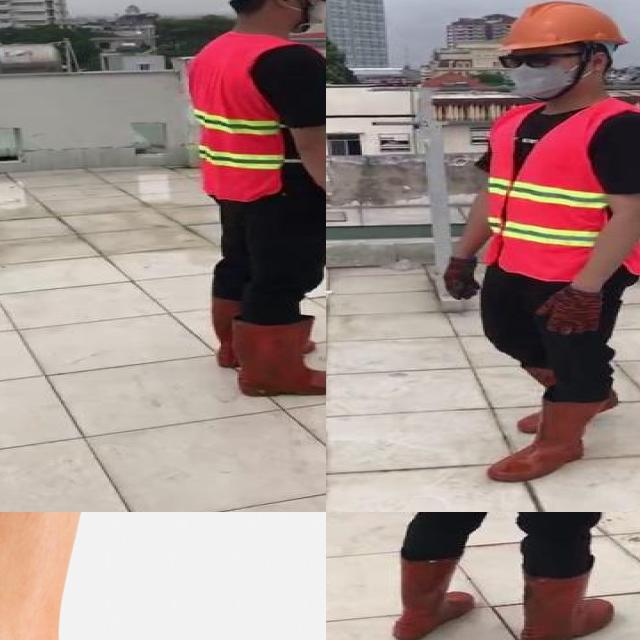boots: (196, 289, 326, 368), (486, 399, 598, 482), (231, 315, 326, 395), (392, 553, 475, 640), (518, 568, 614, 640)
face_mask: (496, 50, 576, 100), (284, 0, 326, 30)
glasses: (493, 51, 579, 70)
hand_glove: (534, 288, 602, 336), (442, 256, 481, 300)
head_helmet: (494, 0, 626, 52)
person: (427, 0, 640, 489), (174, 0, 326, 404), (355, 512, 640, 640)
vest: (485, 100, 640, 279), (185, 31, 326, 201)
